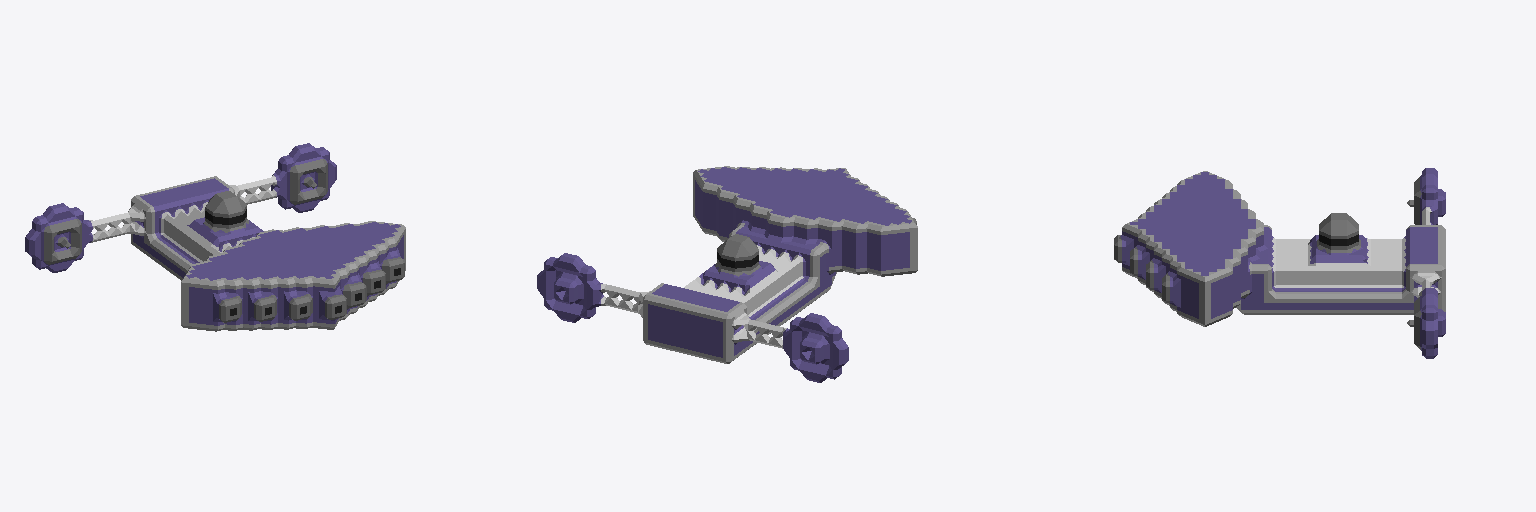
3 views of the same model, side by side, from view 1: azimuth 30°, elevation 25°; view 2: azimuth 150°, elevation 25°; view 3: azimuth 270°, elevation 25° (orthographic).
Bounding box in the file's own units: 45 × 11 × 42.
1 materials, 1 textured.